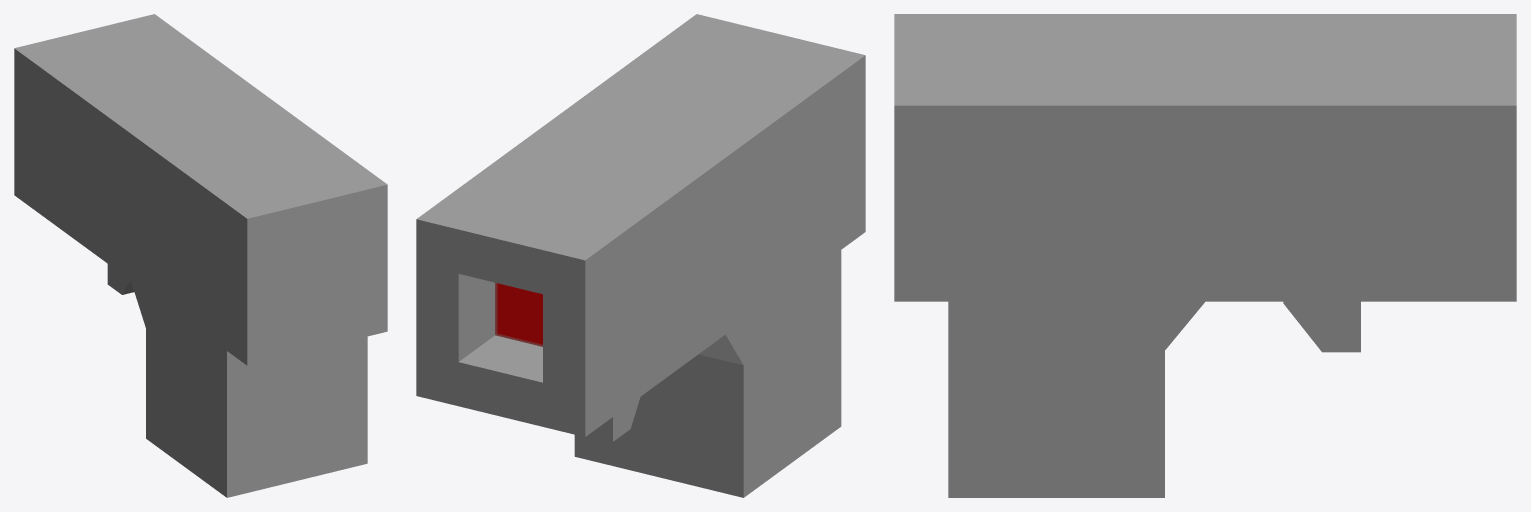
Rendered from GUN.obj.
3 renders of one model, left to right at view 1: azimuth 30°, elevation 25°; view 2: azimuth 150°, elevation 25°; view 3: azimuth 270°, elevation 25°, orthographic. The views are drawn at different scales.
Parts seen in each view (by area): view 1: mesh; view 2: mesh; view 3: mesh.
Boxes of the visible parts, x1,y1,x2,y2 form: mesh: [14, 14, 387, 497]; mesh: [416, 14, 865, 497]; mesh: [894, 14, 1516, 497].
Bounding box in the file's own units: 0.5 × 1 × 1.44.
1 material, 1 textured.
